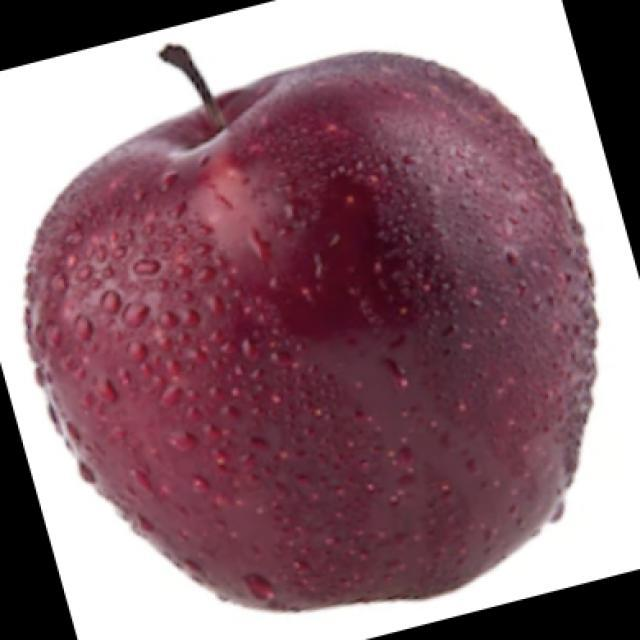Fresh Apple: (26, 49, 602, 614)
